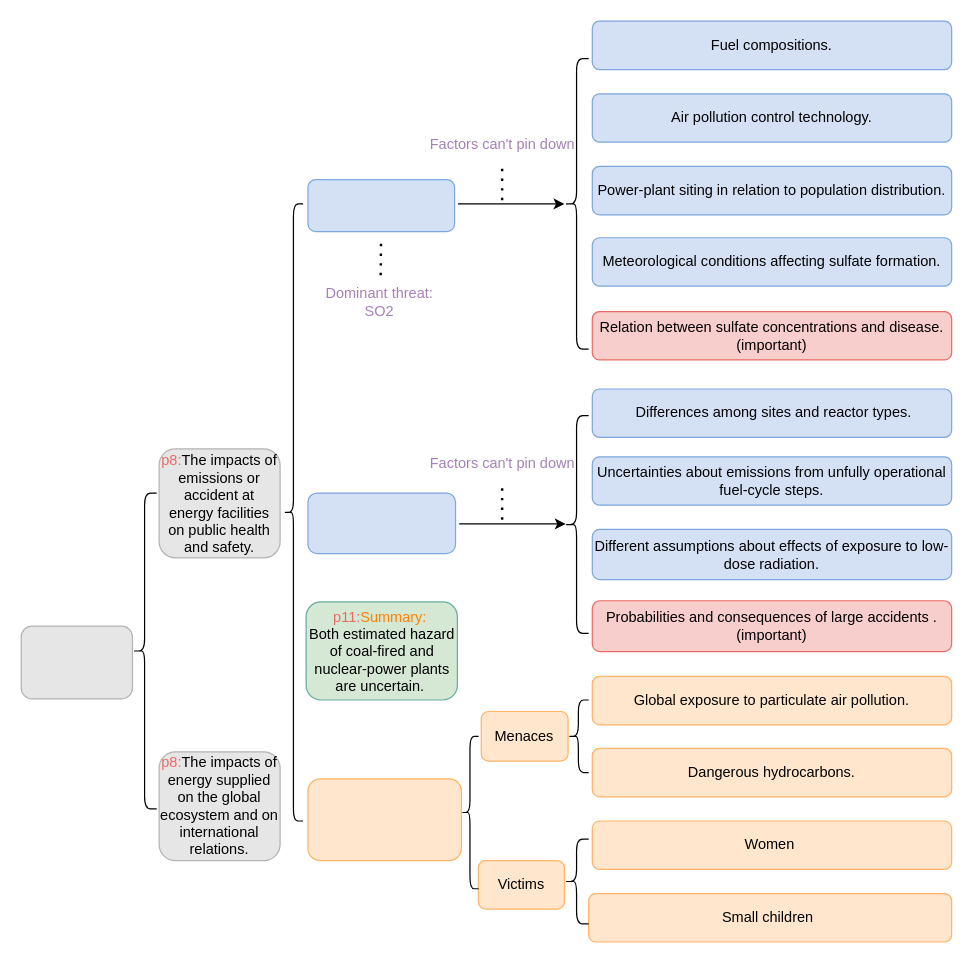
Some shapes in this 973 by 963 pixel diagram are drawn without their labels. Each missing label, with the centre of its shape:
p10: Nuclear fission. (nuclear- power): the point at 381,523
p12: Traditional fuels with primitive burning. (in developing world.): the point at 384,819
p8: Two of greatest concerns in energy.: the point at 76,662
p9: Fossil fuels in air pollution . (coal-fired): the point at 381,205
